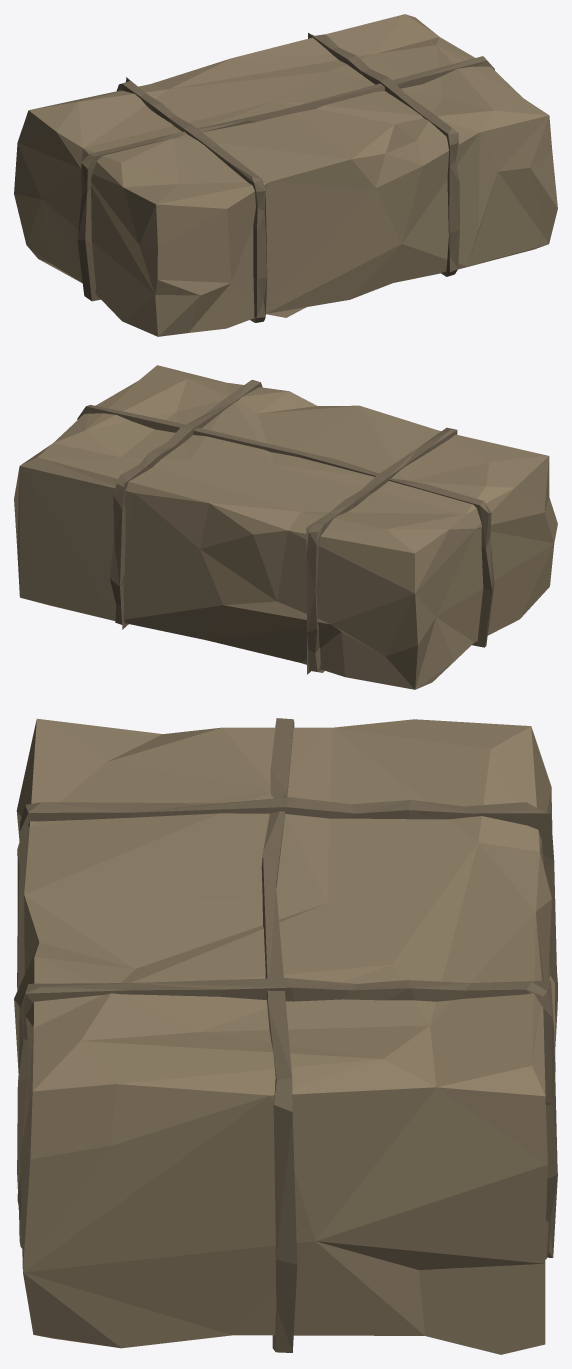
The model's file is SM_Props_Farm_Hay_Bale_Square.fbx.
3 renders of one model, top to bottom at view 1: azimuth 30°, elevation 25°; view 2: azimuth 150°, elevation 25°; view 3: azimuth 270°, elevation 25°, orthographic. The views are drawn at different scales.
Parts seen in each view (by area): view 1: SM_Props_Farm_Hay_Bale_Square; view 2: SM_Props_Farm_Hay_Bale_Square; view 3: SM_Props_Farm_Hay_Bale_Square.
Boxes of the visible parts, x1,y1,x2,y2 form: SM_Props_Farm_Hay_Bale_Square: [14, 14, 557, 336]; SM_Props_Farm_Hay_Bale_Square: [14, 365, 557, 689]; SM_Props_Farm_Hay_Bale_Square: [14, 718, 557, 1354].
Size of the model in its own units: 312 by 109 by 188.
